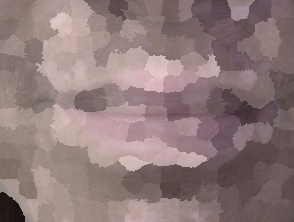vitiligo: (0, 0, 294, 176), (106, 194, 227, 222)
